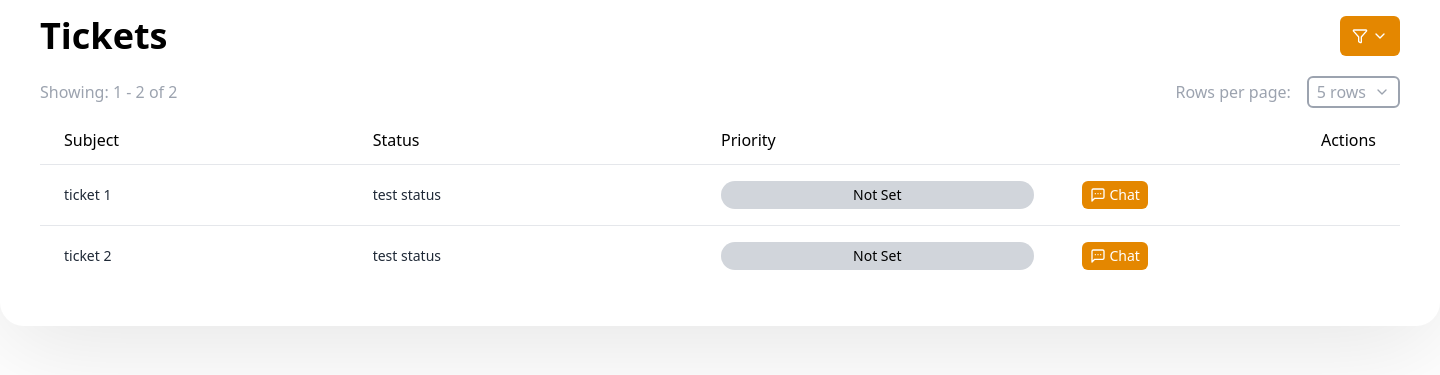
Test: TicketsCard - rendering › TicketsCard - Sorting › Sorting is handled correctly when status is clicked and both status's are the same
Expected: the text "ticket 1" is shown, [40,164,349,226]
Click the button "Status". click: {"x": 396, "y": 140}
box: [373,128,673,152]
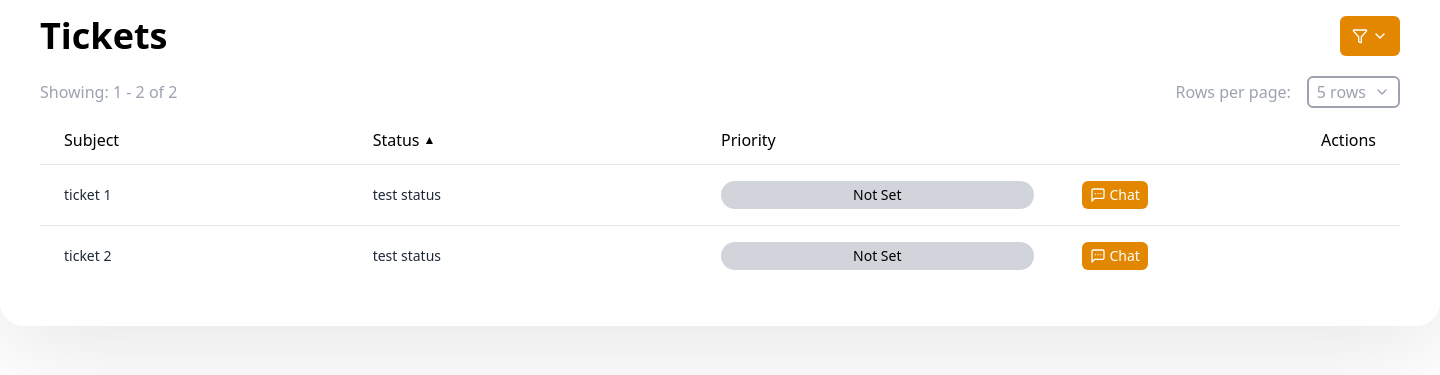
Expected: the text "test status" in the row of "ticket 1" is shown, [373,185,441,204]
Now the button "Status ▲" is shown, box [373,128,673,152]
